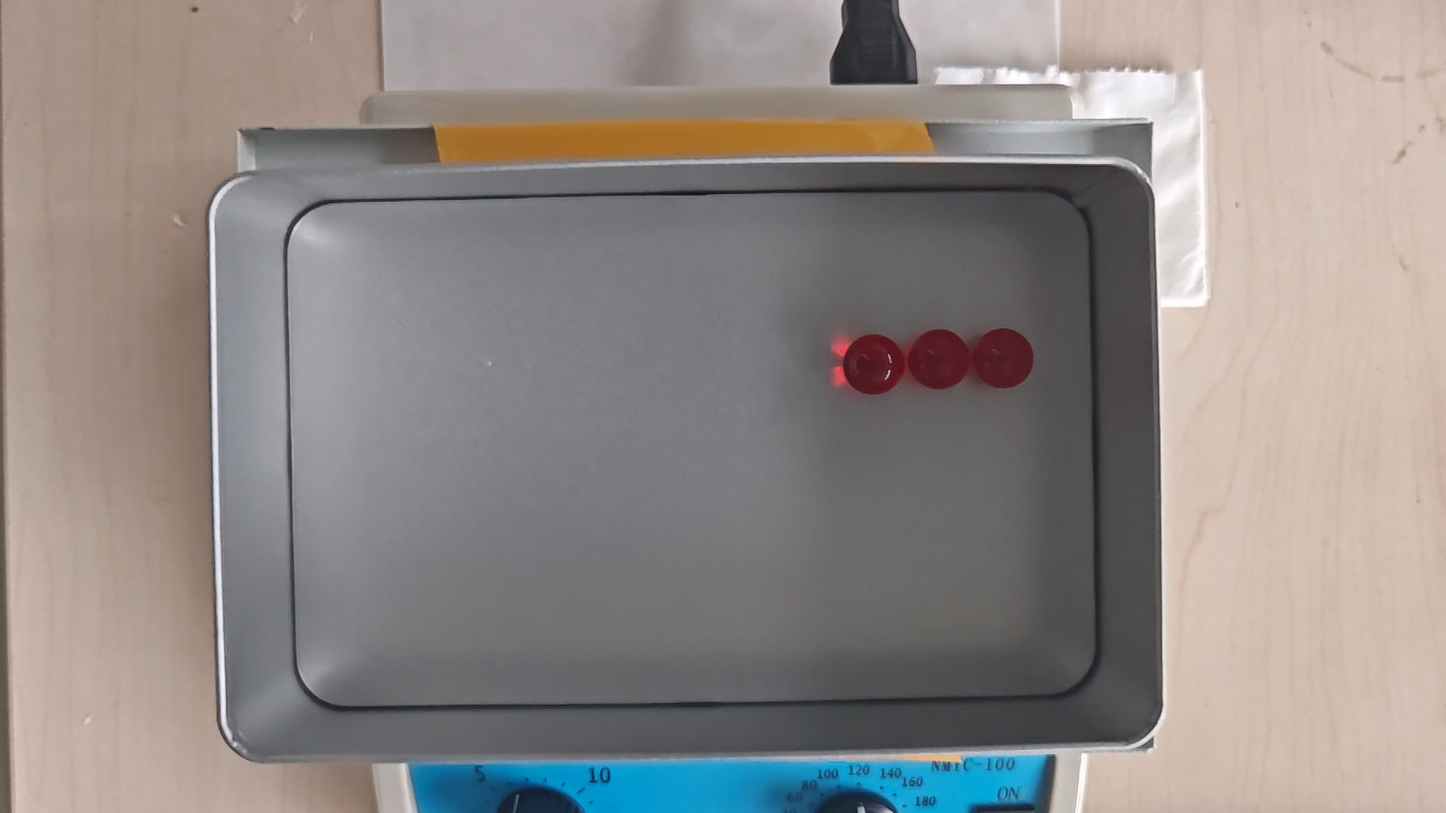ball: (972, 328, 1032, 388), (847, 331, 902, 394), (911, 332, 967, 391)
container: (283, 195, 1102, 705)
